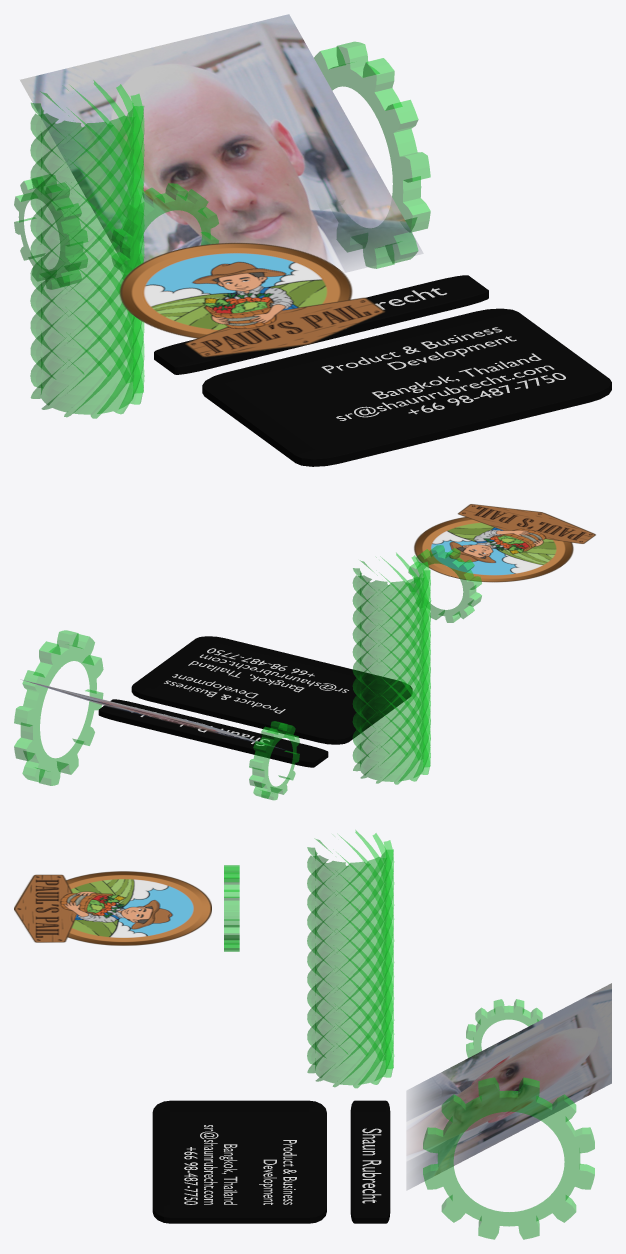
Rendered from ShaunGears1.gltf.
The picture shows the model from 3 angles, top to bottom: view 1: azimuth 30°, elevation 25°; view 2: azimuth 150°, elevation 25°; view 3: azimuth 270°, elevation 25°; orthographic projection. The views are drawn at different scales.
Parts seen in each view (by area): view 1: ShaunFace, Roundcube.001, Worm Gear, PPlogo, Gear.002, Roundcube, Gear.001, Gear, text; view 2: Roundcube.001, Worm Gear, PPlogo, Gear.002, Roundcube, Gear, Gear.001, text, ShaunFace; view 3: Roundcube.001, ShaunFace, Worm Gear, PPlogo, Gear.002, Roundcube, text, Gear.001, Gear, Text.
Part boxes in pixels (x1=…): ShaunFace: x1=20, y1=14, x2=422, y2=272; Roundcube.001: x1=202, y1=308, x2=611, y2=466; Worm Gear: x1=30, y1=80, x2=144, y2=418; PPlogo: x1=119, y1=243, x2=385, y2=357; Gear.002: x1=314, y1=41, x2=430, y2=268; Roundcube: x1=154, y1=275, x2=488, y2=374; Gear.001: x1=14, y1=174, x2=87, y2=289; Gear: x1=111, y1=183, x2=218, y2=279; text: x1=321, y1=327, x2=565, y2=420; Roundcube.001: x1=131, y1=636, x2=412, y2=744; Worm Gear: x1=352, y1=552, x2=430, y2=784; PPlogo: x1=414, y1=504, x2=595, y2=582; Gear.002: x1=14, y1=630, x2=103, y2=785; Roundcube: x1=98, y1=699, x2=328, y2=767; Gear: x1=408, y1=545, x2=481, y2=622; Gear.001: x1=249, y1=721, x2=299, y2=800; text: x1=164, y1=648, x2=348, y2=713; ShaunFace: x1=20, y1=679, x2=287, y2=750; Roundcube.001: x1=152, y1=1100, x2=326, y2=1223; ShaunFace: x1=407, y1=983, x2=611, y2=1189; Worm Gear: x1=307, y1=830, x2=394, y2=1088; PPlogo: x1=14, y1=871, x2=211, y2=945; Gear.002: x1=423, y1=1077, x2=594, y2=1239; Roundcube: x1=350, y1=1100, x2=390, y2=1223; text: x1=184, y1=1125, x2=296, y2=1204; Gear.001: x1=466, y1=999, x2=542, y2=1057; Gear: x1=224, y1=865, x2=239, y2=951; Text: x1=362, y1=1128, x2=381, y2=1203.
Bounding box in the file's own units: 11.24 × 6.87 × 15.1.
Materials: 7 (2 with a texture image).
